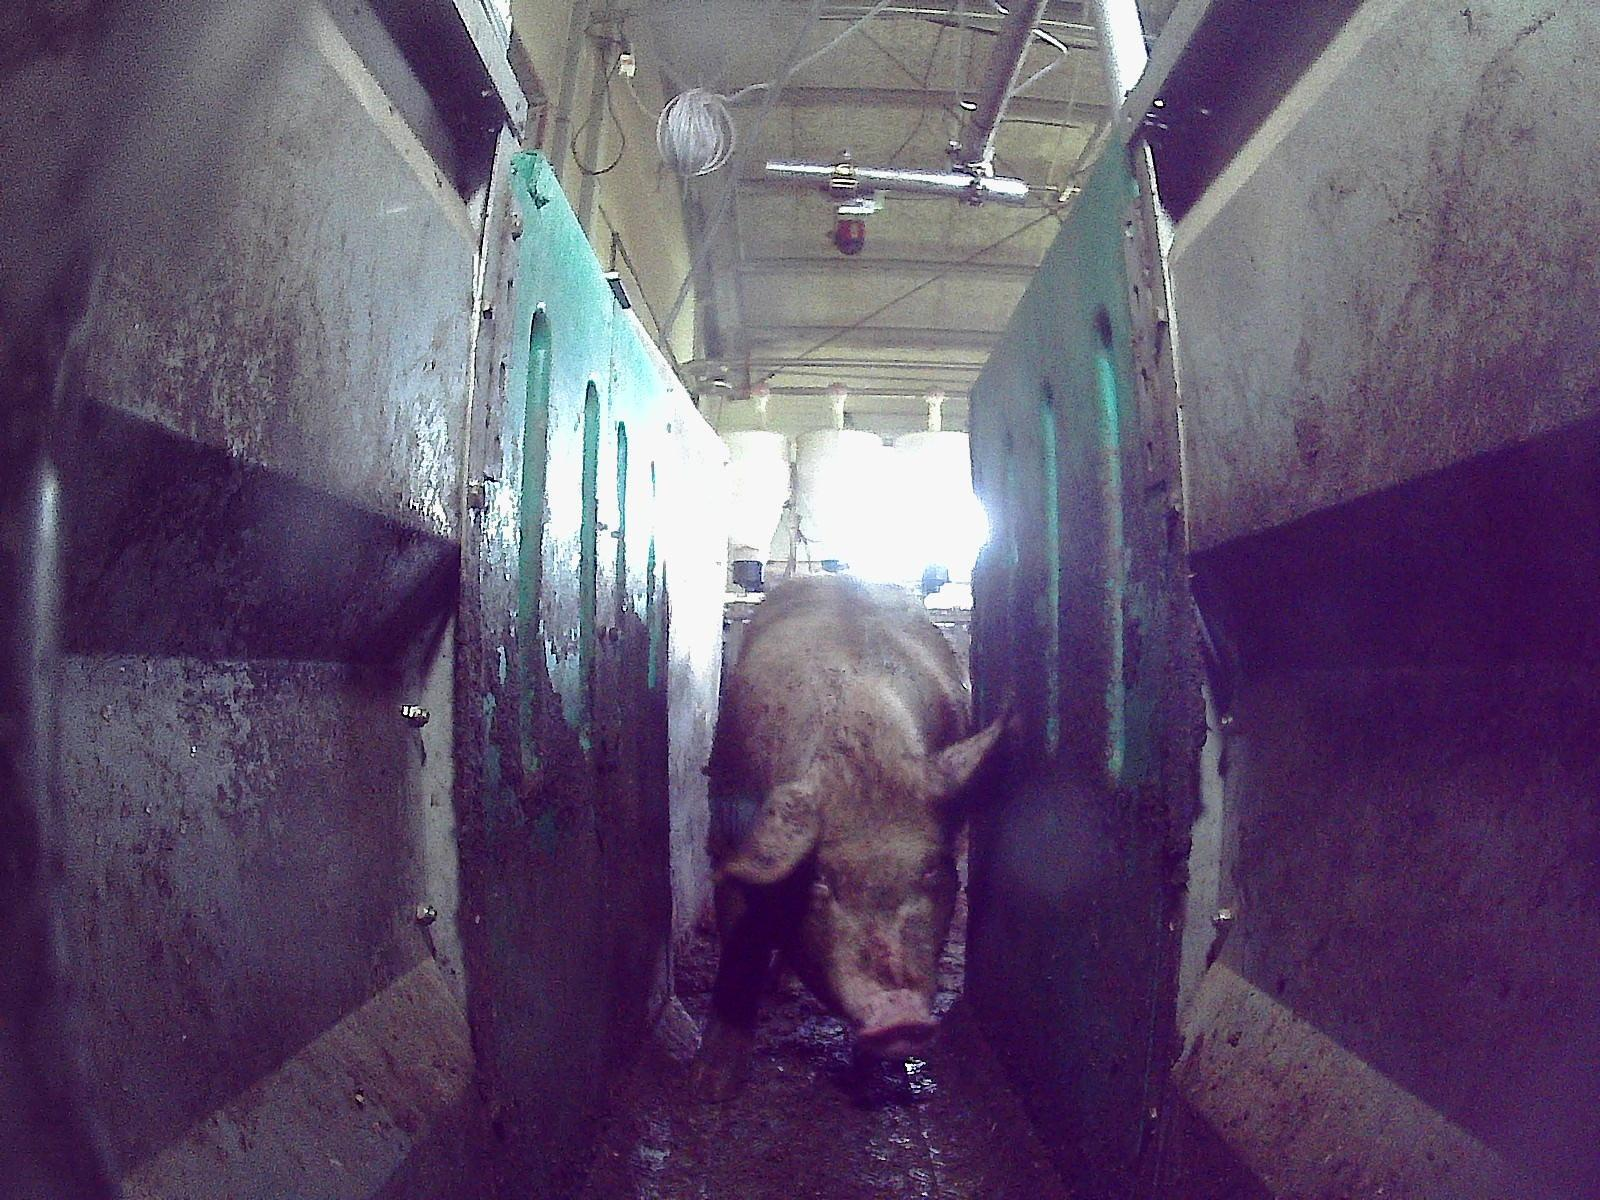Face: (760, 746, 960, 1053)
